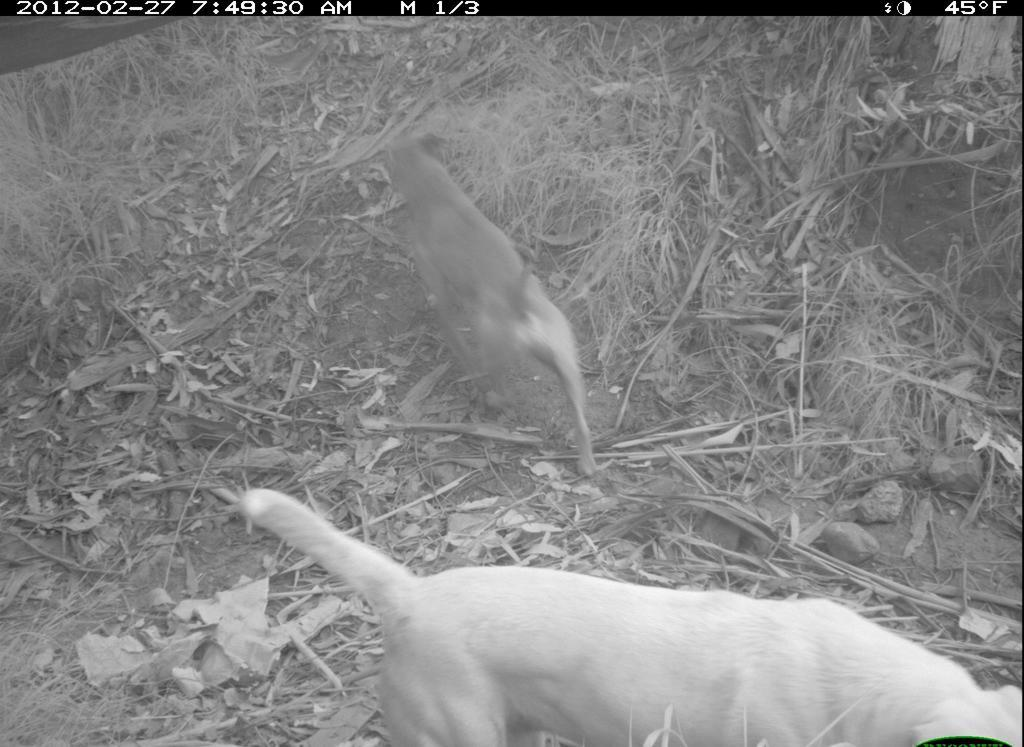dog: (232, 479, 1022, 739), (367, 117, 638, 481)
